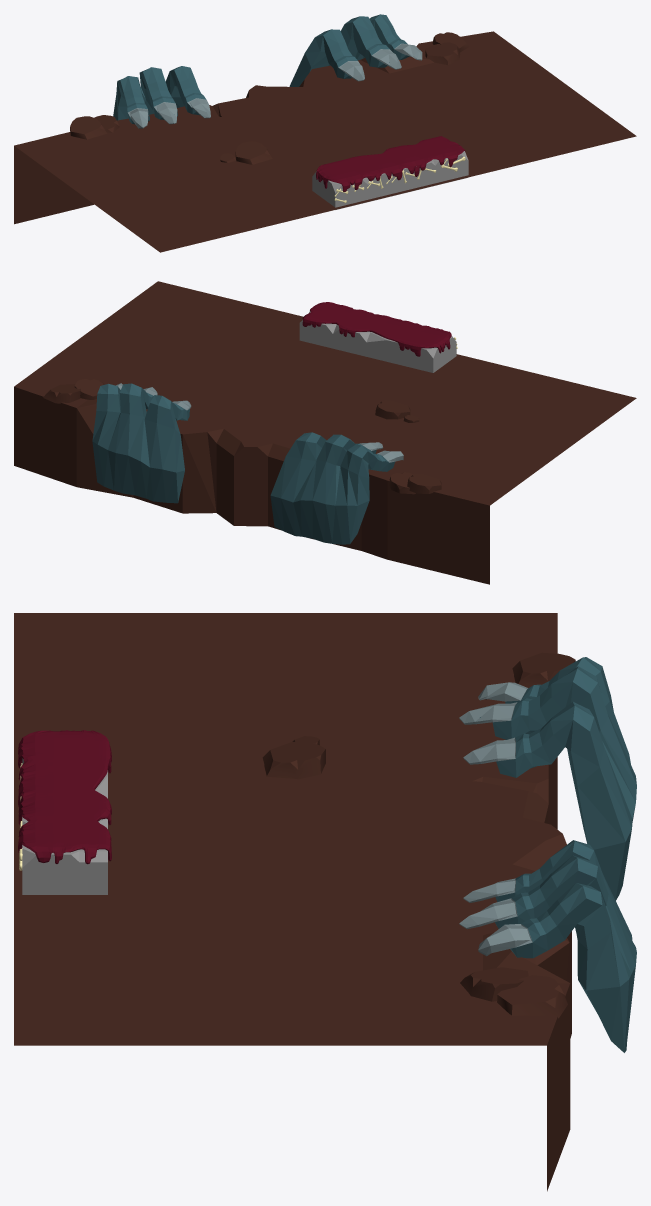
Rendered from Terreno.FBX.
3 views of the same model, one above another, from view 1: azimuth 30°, elevation 25°; view 2: azimuth 150°, elevation 25°; view 3: azimuth 270°, elevation 25° (orthographic). The views are drawn at different scales.
Visible parts, largest first — view 1: tereno, Altar, maoE, MaoD, Box005, Box006, Box008, Box004; view 2: tereno, MaoD, maoE, Altar, Box006, Box004, Box005, Box008; view 3: tereno, MaoD, maoE, Altar, Box004, Box005, Box008, Box006.
Boxes of the visible parts, x1=… form: tereno: x1=14, y1=31, x2=636, y2=252; Altar: x1=312, y1=136, x2=468, y2=209; maoE: x1=289, y1=14, x2=422, y2=86; MaoD: x1=113, y1=66, x2=210, y2=128; Box005: x1=235, y1=141, x2=272, y2=164; Box006: x1=70, y1=116, x2=106, y2=139; Box008: x1=425, y1=42, x2=460, y2=65; Box004: x1=432, y1=32, x2=469, y2=52; tereno: x1=14, y1=281, x2=636, y2=584; MaoD: x1=270, y1=432, x2=403, y2=544; maoE: x1=92, y1=383, x2=191, y2=503; Altar: x1=299, y1=302, x2=457, y2=372; Box006: x1=407, y1=474, x2=441, y2=493; Box004: x1=43, y1=384, x2=80, y2=403; Box005: x1=375, y1=400, x2=410, y2=419; Box008: x1=74, y1=379, x2=104, y2=399; tereno: x1=14, y1=613, x2=571, y2=1191; MaoD: x1=459, y1=657, x2=636, y2=900; maoE: x1=459, y1=840, x2=636, y2=1052; Altar: x1=18, y1=730, x2=111, y2=894; Box004: x1=497, y1=975, x2=567, y2=1018; Box005: x1=262, y1=742, x2=325, y2=779; Box008: x1=460, y1=967, x2=528, y2=1001; Box006: x1=512, y1=652, x2=575, y2=684.
Bounding box in the file's own units: 239 × 56.87 × 146.
